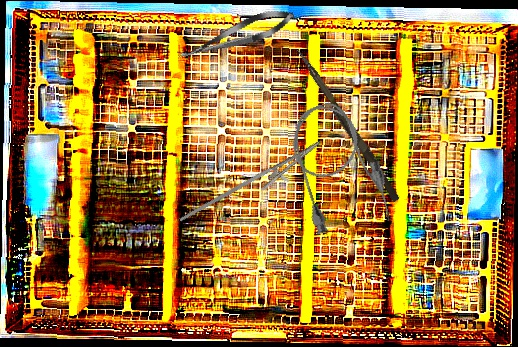Cannula: (279, 93, 398, 243)
Micro Scissor: (174, 2, 298, 69)
Needle Holder: (178, 125, 328, 247)
Pusher: (290, 47, 404, 203)
